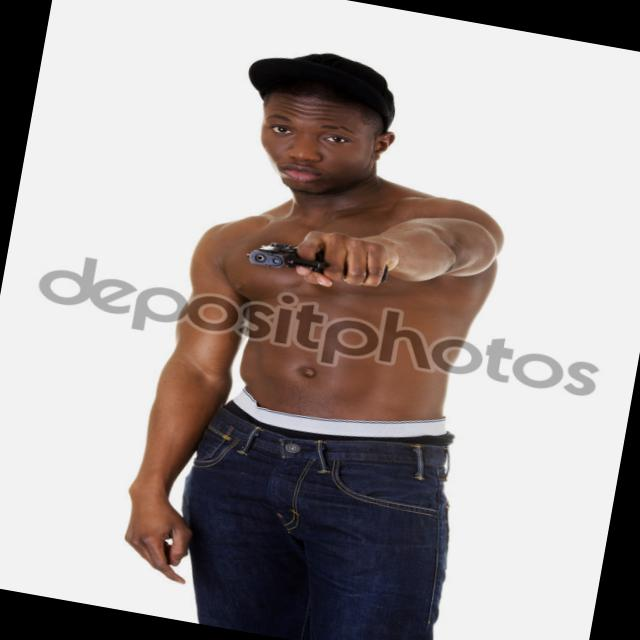handgun: (248, 232, 382, 296)
